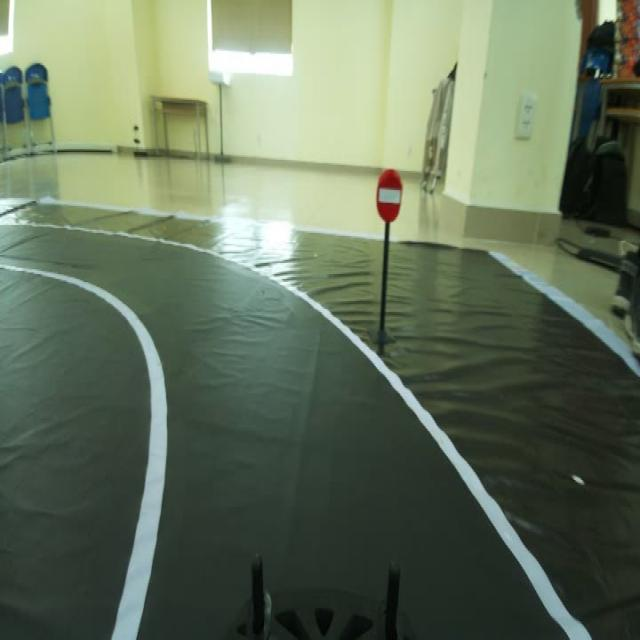no_entry: (376, 165, 408, 223)
